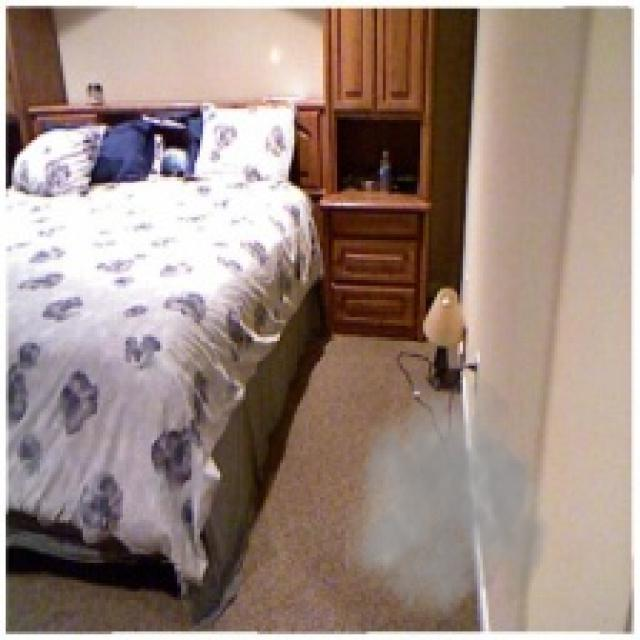smoke: (346, 372, 563, 628)
